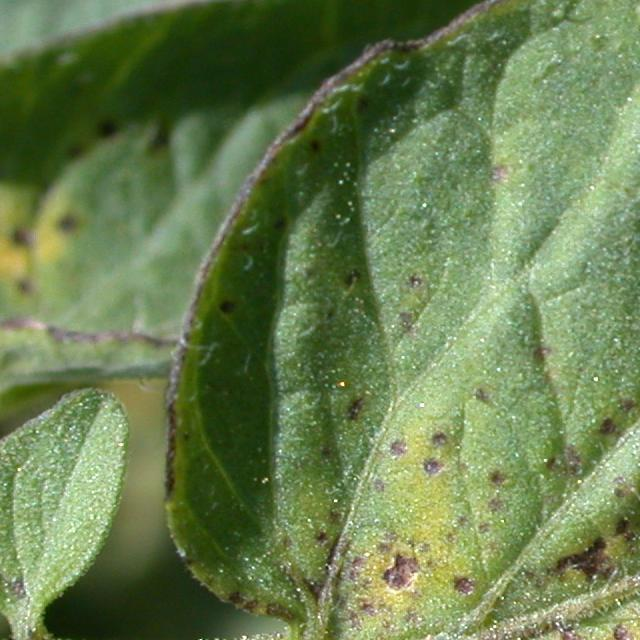Tomato leaf bacterial spot: (150, 0, 640, 640)
